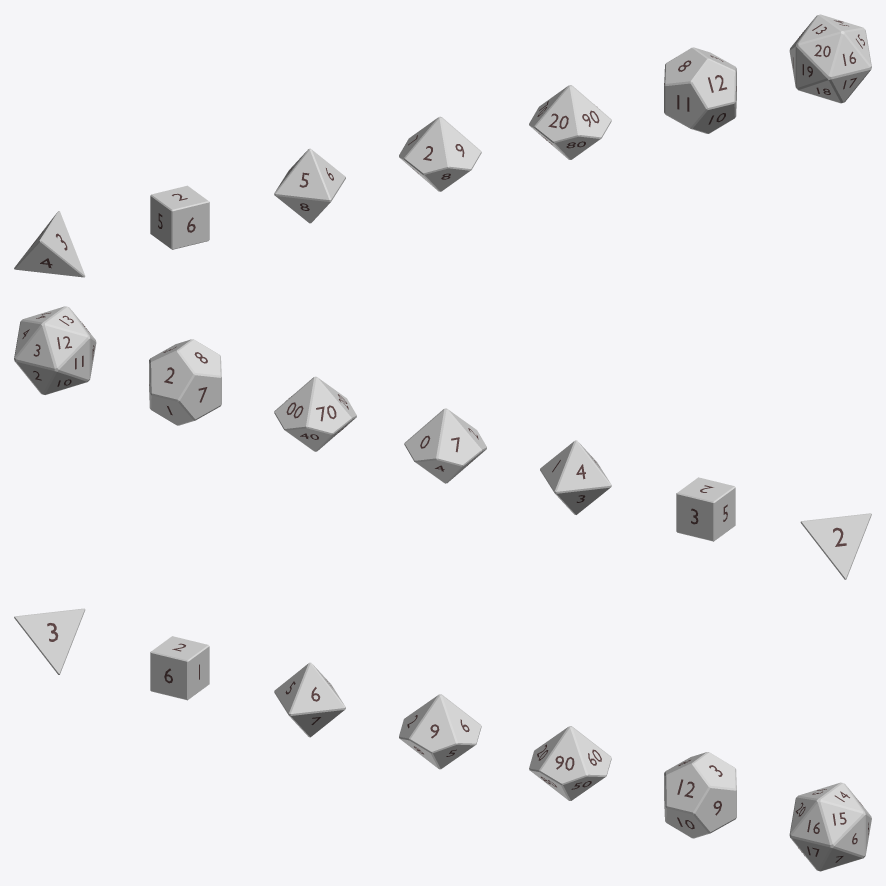
The model's file is dice.glb.
3 renders of one model, top to bottom at view 1: azimuth 30°, elevation 25°; view 2: azimuth 150°, elevation 25°; view 3: azimuth 330°, elevation 25°, orthographic.
Visible parts, largest first — view 1: d20, d12, d10, d100, d6, d8, d4; view 2: d20, d12, d10, d100, d6, d8, d4; view 3: d20, d12, d10, d100, d6, d8, d4.
Part boxes in pixels (x1,y1,x2,y2): d20: (789, 14, 871, 103); d12: (664, 47, 736, 133); d10: (399, 116, 481, 191); d100: (529, 85, 611, 159); d6: (150, 185, 209, 249); d8: (274, 148, 345, 223); d4: (14, 211, 85, 277); d20: (14, 306, 96, 394); d12: (149, 339, 221, 425); d10: (404, 408, 486, 483); d100: (274, 376, 356, 451); d6: (676, 477, 735, 541); d8: (540, 440, 611, 514); d4: (800, 513, 871, 579); d20: (789, 782, 871, 871); d12: (664, 752, 736, 838); d10: (399, 694, 481, 769); d100: (529, 726, 611, 800); d6: (150, 636, 209, 700); d8: (274, 662, 345, 737); d4: (14, 608, 85, 674).
Size of the model in its own units: 0.6439 by 0.0551 by 0.0551.
